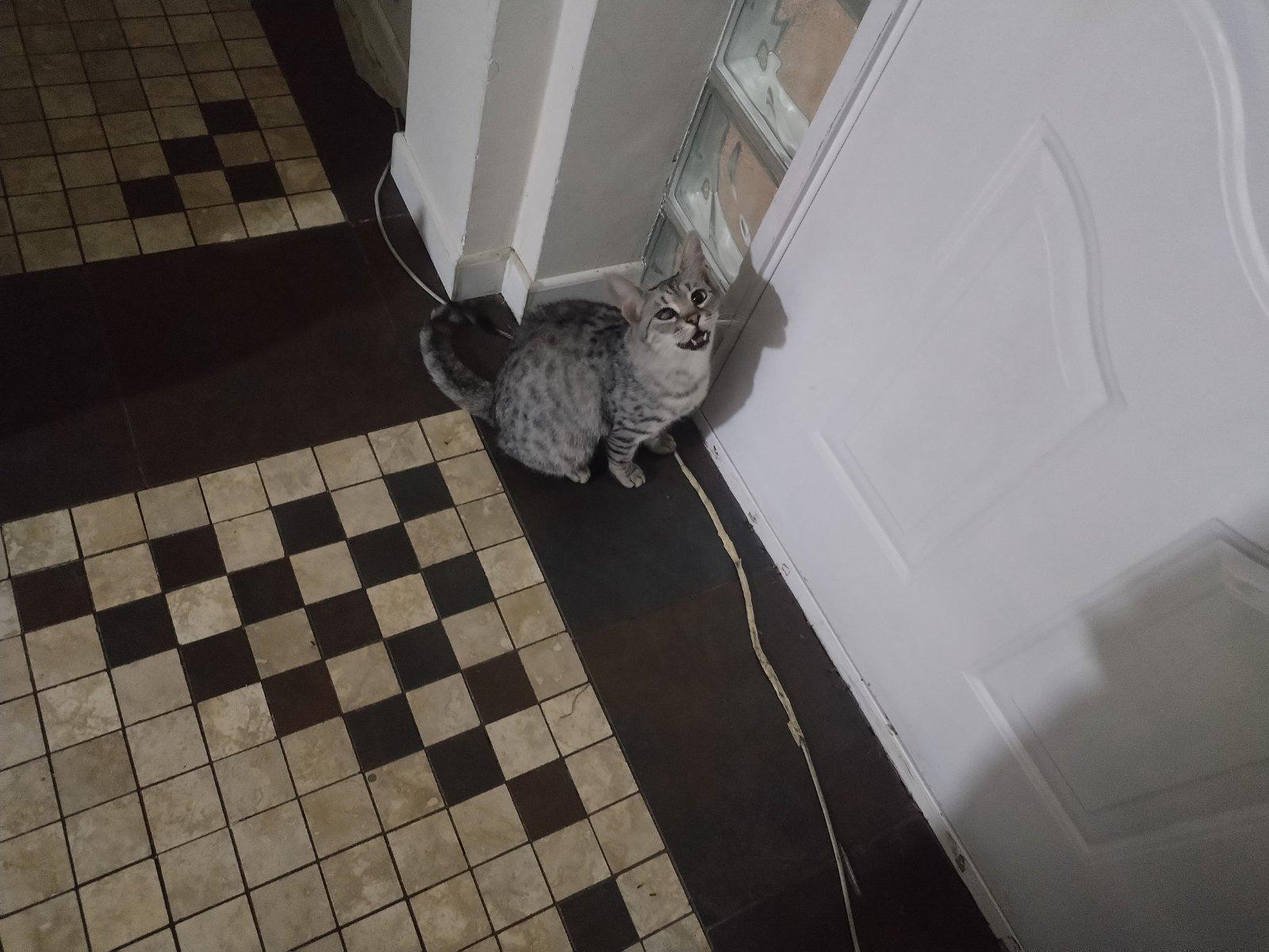macka: (417, 231, 726, 486)
